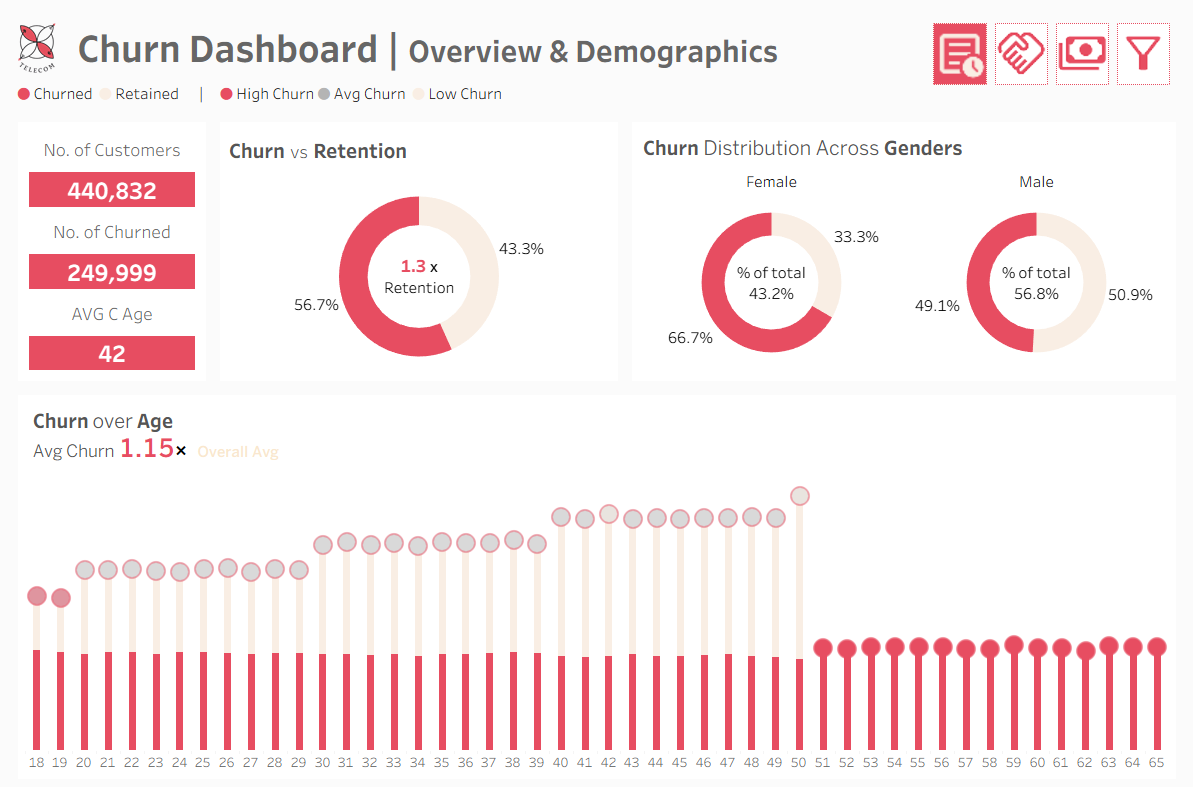

This screenshot's page, from the dashboard's own definition file:
{"tool":"tableau","page":{"name":"Overview page","canvas":[1200,800],"ordinal":0},"visuals":[{"type":"blank","box":[925,14,260,97]},{"type":"image","param":"Image/Logo.png","box":[7,16,66,62]},{"type":"text","box":[73,16,859,62]},{"type":"dashboard-object","box":[932,19,62,70]},{"type":"dashboard-object","box":[994,19,61,70]},{"type":"dashboard-object","box":[1055,19,61,70]},{"type":"dashboard-object","box":[1116,19,61,70]},{"type":"text","box":[7,78,187,30]},{"type":"text","box":[194,78,999,30]},{"type":"text","box":[925,111,260,82]},{"type":"worksheet","title":"Page1_Chart1","mark":"Pie","cols":["Calculation_810929419872382977","Calculation_810929419872382977"],"box":[216,115,412,273]},{"type":"worksheet","title":"Page1_Chart3","mark":"Pie","cols":["Gender","Calculation_810929419912978446","Calculation_810929419912978446"],"box":[628,115,558,273]},{"type":"worksheet","title":"Page1_KPI1","mark":"Automatic","box":[28,129,174,82]},{"type":"blank","box":[925,193,260,55]},{"type":"worksheet","title":"Page1_KPI3","mark":"Automatic","box":[28,211,174,82]},{"type":"filter","title":"Page1_Chart1","param":"[federated.1g8j1k10bpq0m6140fmdj1obe5af].[none:Contract Length:nk]","box":[925,248,260,68]},{"type":"worksheet","title":"Page1_KPI2","mark":"Automatic","box":[28,293,174,81]},{"type":"blank","box":[925,316,260,26]},{"type":"filter","title":"Page1_Chart1","param":"[federated.1g8j1k10bpq0m6140fmdj1obe5af].[none:Subscription Type:nk]","box":[925,342,260,68]},{"type":"worksheet","title":"Page1_Chart2","mark":"Bar","rows":["CustomerID","CustomerID"],"cols":["Age"],"box":[14,395,1172,391]},{"type":"blank","box":[925,410,260,32]},{"type":"filter","title":"Page1_Chart1","param":"[federated.1g8j1k10bpq0m6140fmdj1obe5af].[none:Support Calls:qk]","box":[925,442,260,80]},{"type":"blank","box":[925,522,260,32]},{"type":"filter","title":"Page1_Chart1","param":"[federated.1g8j1k10bpq0m6140fmdj1obe5af].[none:Calculation_1036390876521951232:n","box":[925,554,260,68]},{"type":"blank","box":[925,622,260,32]},{"type":"filter","title":"Page1_KPI2","param":"[federated.1g8j1k10bpq0m6140fmdj1obe5af].[none:Total Spend:qk]","box":[925,654,260,80]}]}

Visuals, with their boxes in screenshot pixels (x1, y1, x2, y2), scaled from the page's 1200x800 canvas onto the 1193x787 screenshot:
blank: (920,14,1178,109)
image: (7,16,73,77)
text: (73,16,927,77)
dashboard-object: (927,19,988,88)
dashboard-object: (988,19,1049,88)
dashboard-object: (1049,19,1109,88)
dashboard-object: (1109,19,1170,88)
text: (7,77,193,106)
text: (193,77,1186,106)
text: (920,109,1178,190)
"Page1_Chart1" worksheet (Pie marks): (215,113,624,382)
"Page1_Chart3" worksheet (Pie marks): (624,113,1179,382)
"Page1_KPI1" worksheet: (28,127,201,208)
blank: (920,190,1178,244)
"Page1_KPI3" worksheet: (28,208,201,288)
"Page1_Chart1" filter: (920,244,1178,311)
"Page1_KPI2" worksheet: (28,288,201,368)
blank: (920,311,1178,336)
"Page1_Chart1" filter: (920,336,1178,403)
"Page1_Chart2" worksheet (Bar marks): (14,389,1179,773)
blank: (920,403,1178,435)
"Page1_Chart1" filter: (920,435,1178,514)
blank: (920,514,1178,545)
"Page1_Chart1" filter: (920,545,1178,612)
blank: (920,612,1178,643)
"Page1_KPI2" filter: (920,643,1178,722)
